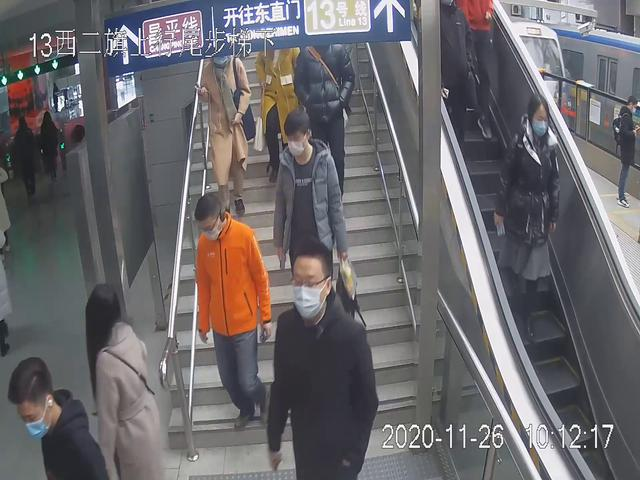person: (264, 236, 379, 480), (191, 189, 278, 429), (272, 107, 362, 325), (83, 281, 179, 480), (493, 88, 563, 345), (193, 47, 256, 224), (297, 37, 358, 208)
